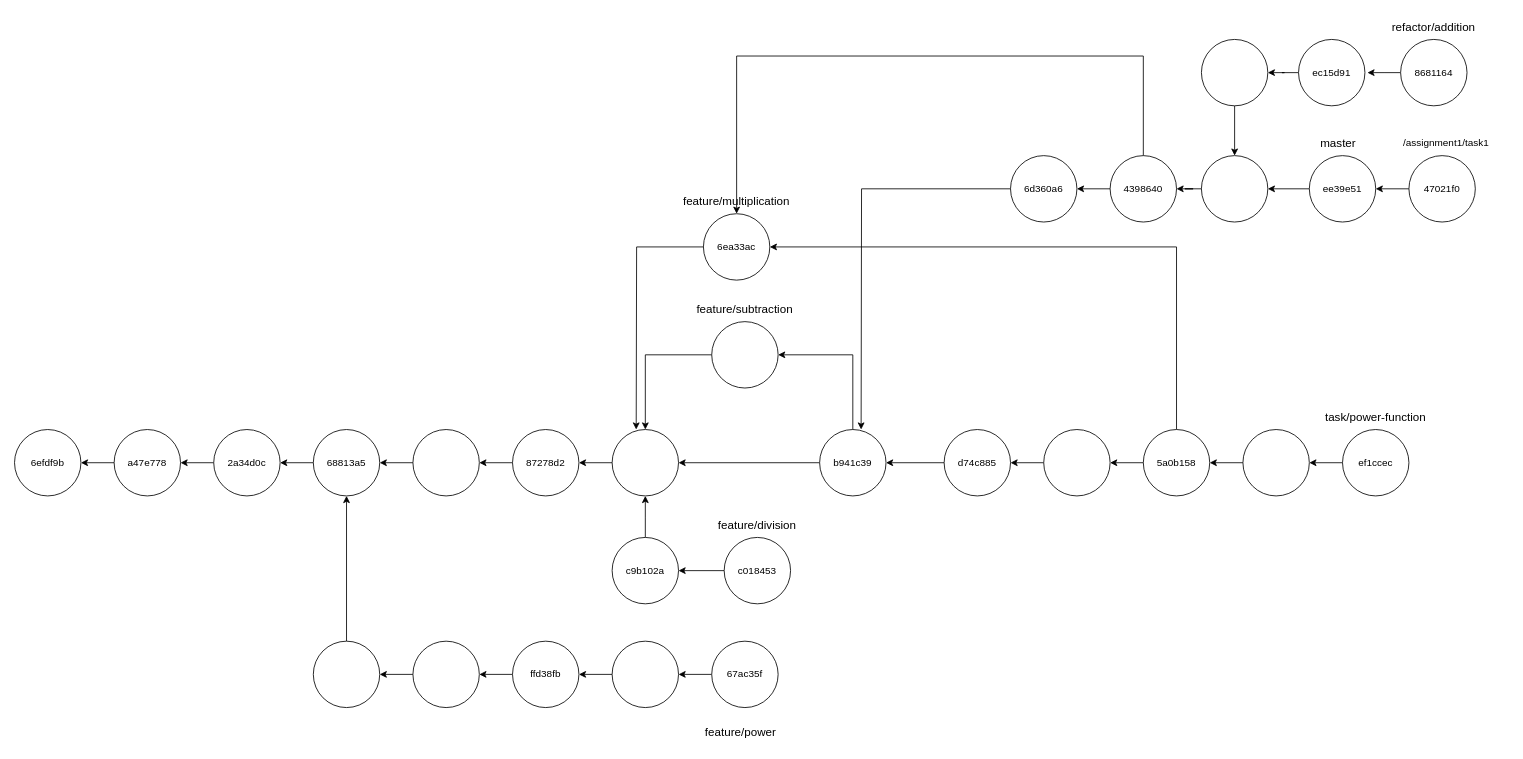
This 1523x759 diagram has some shape labels left out. The shapes that lost their labels are listed below. From the top down, each one's centre as x and y in pixels, then its label:
At [1234,72]: "a6bd203".
At [1234,188]: "6b2ad42".
At [744,354]: "8b71705".
At [445,462]: "4b5a5d2".
At [645,462]: "58ccebe".
At [1076,462]: "34f1f83".
At [1275,462]: "9431d00".
At [346,674]: "db59b53".
At [445,674]: "7b388bd".
At [645,674]: "672c58a".
